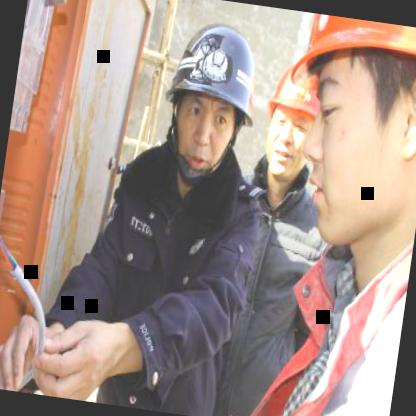helmet: (249, 8, 416, 260), (150, 10, 271, 193), (256, 60, 330, 181)
